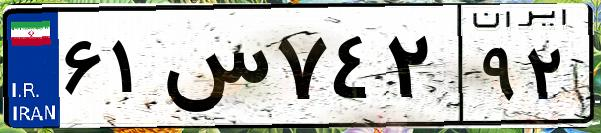1: (110, 28, 158, 98)
2: (385, 28, 445, 110), (525, 38, 570, 115)
4: (330, 28, 385, 110)
6: (57, 26, 110, 100)
7: (270, 28, 330, 110)
9: (475, 38, 525, 113)
س: (158, 20, 270, 120)
